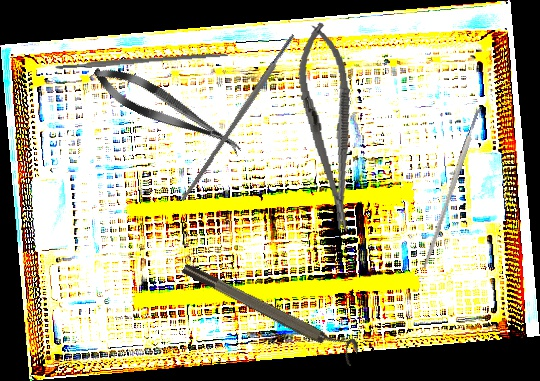Fixation Ring: (179, 252, 363, 367)
Micro Scissor: (86, 56, 250, 165)
Needle Holder: (291, 18, 367, 236)
Scalpel Handle: (179, 33, 298, 203), (421, 107, 483, 270), (54, 50, 229, 71)
